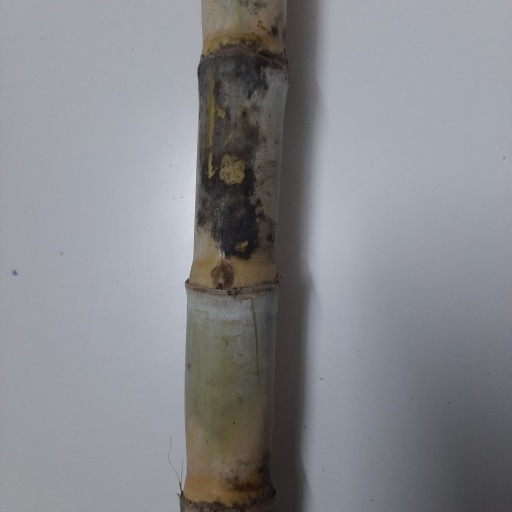Bud: (212, 263, 233, 290)
